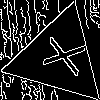X: (33, 32, 87, 77)
